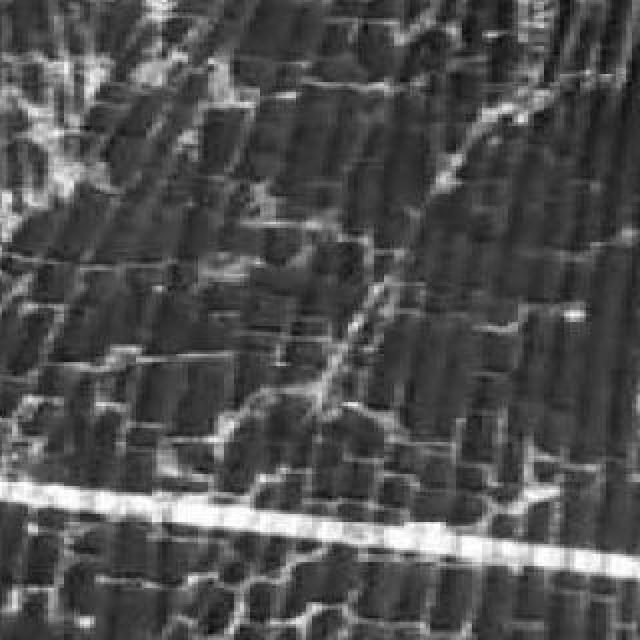Physical-damage: (138, 162, 436, 445), (334, 377, 583, 588), (58, 62, 290, 279)
